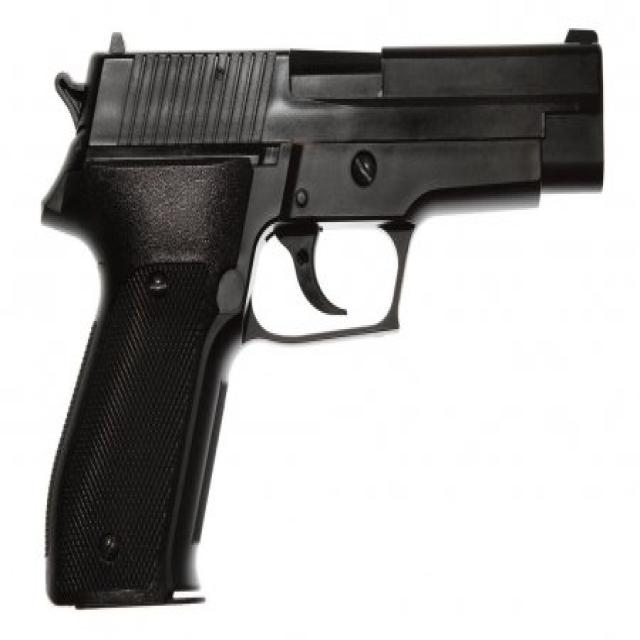pistol: (36, 13, 620, 618)
